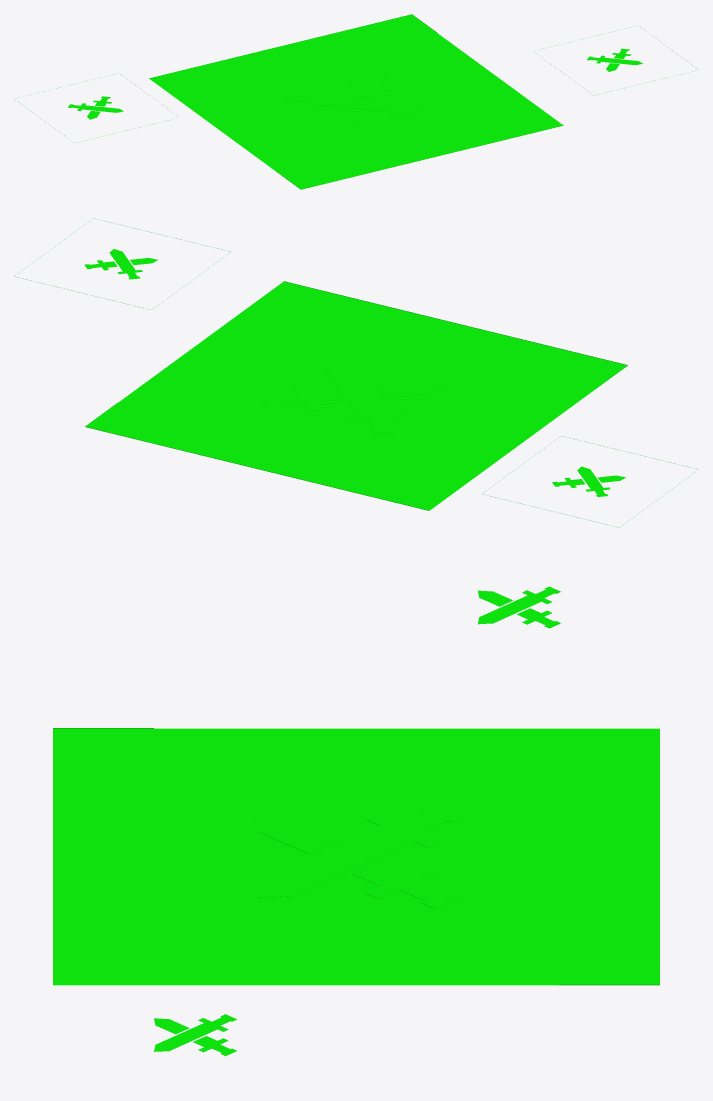
The picture shows the model from 3 angles, top to bottom: view 1: azimuth 30°, elevation 25°; view 2: azimuth 150°, elevation 25°; view 3: azimuth 270°, elevation 25°; orthographic projection. The views are drawn at different scales.
Parts seen in each view (by area): view 1: material_06; view 2: material_06; view 3: material_06.
Boxes of the visible parts, <box> form: material_06: <box>15,14,695,189</box>; material_06: <box>14,218,698,527</box>; material_06: <box>53,586,659,1056</box>.
Size of the model in its own units: 6.2 by 3 by 0.1946.
